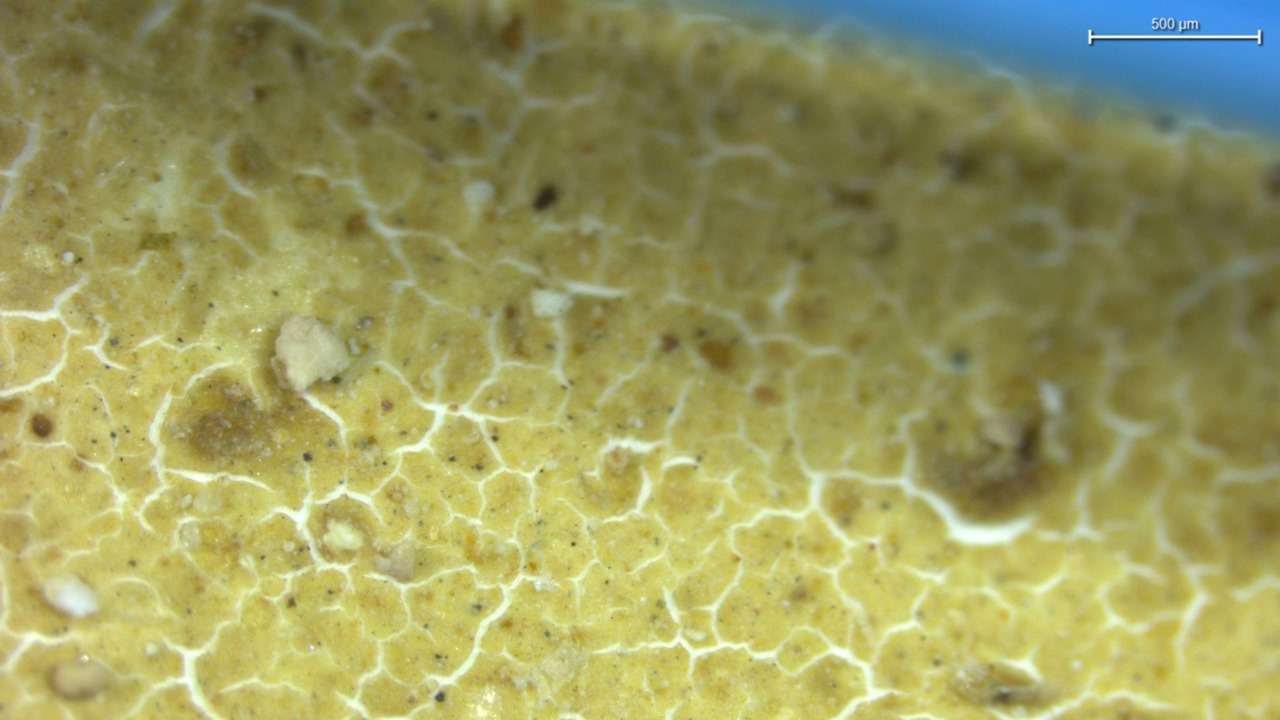microplastic_fragment: (272, 316, 349, 393)
